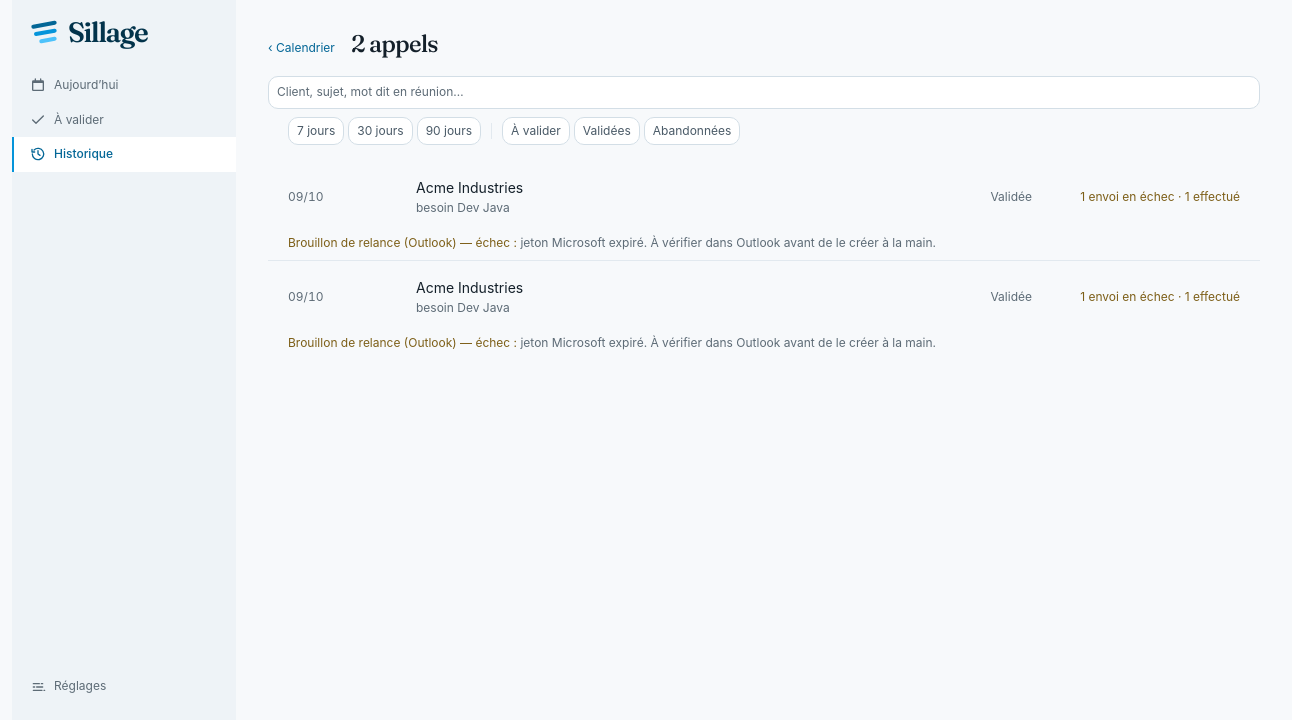
Scenario: the screen is named by what it holds, not by what it is (US-22) › a pressed chip is named in the title, in the chip’s own words
This screenshot has width=1292, height=720.
Click the button "Validées" at (607, 131), box [574,117,640,146]
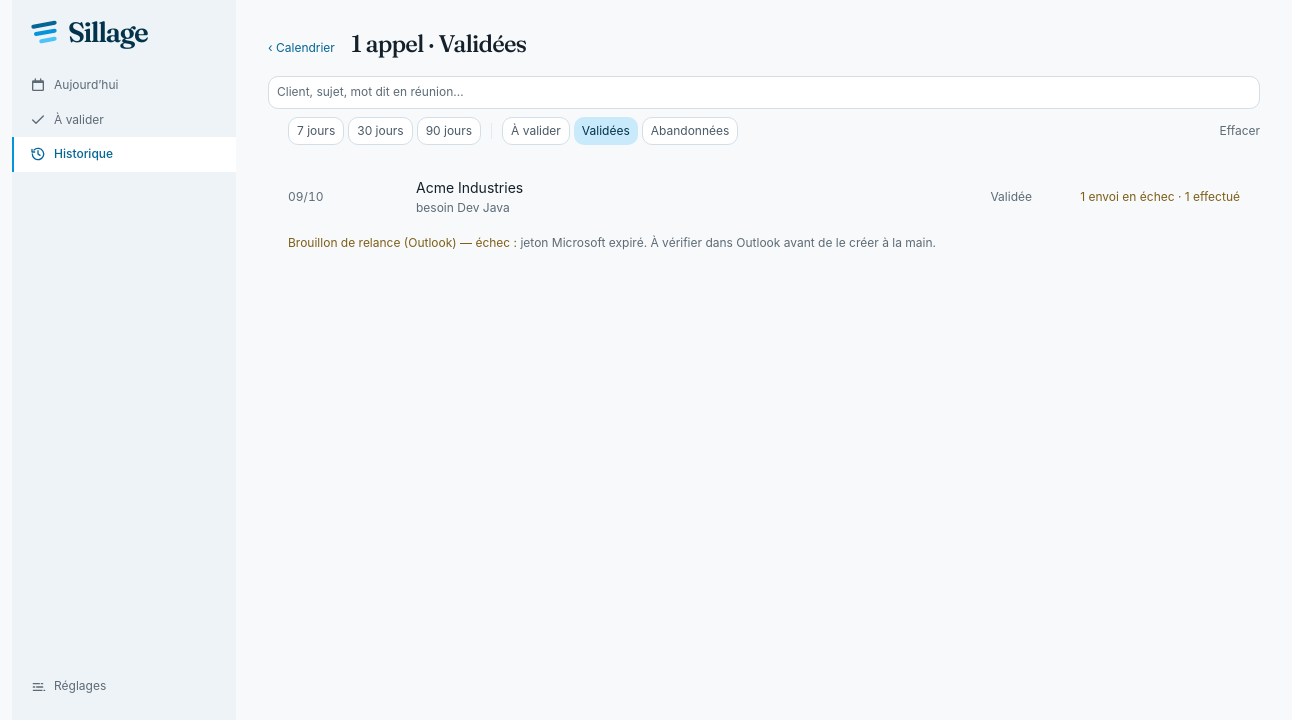
Check: the heading reads "1 appel · Validées", box [351,29,526,58]
